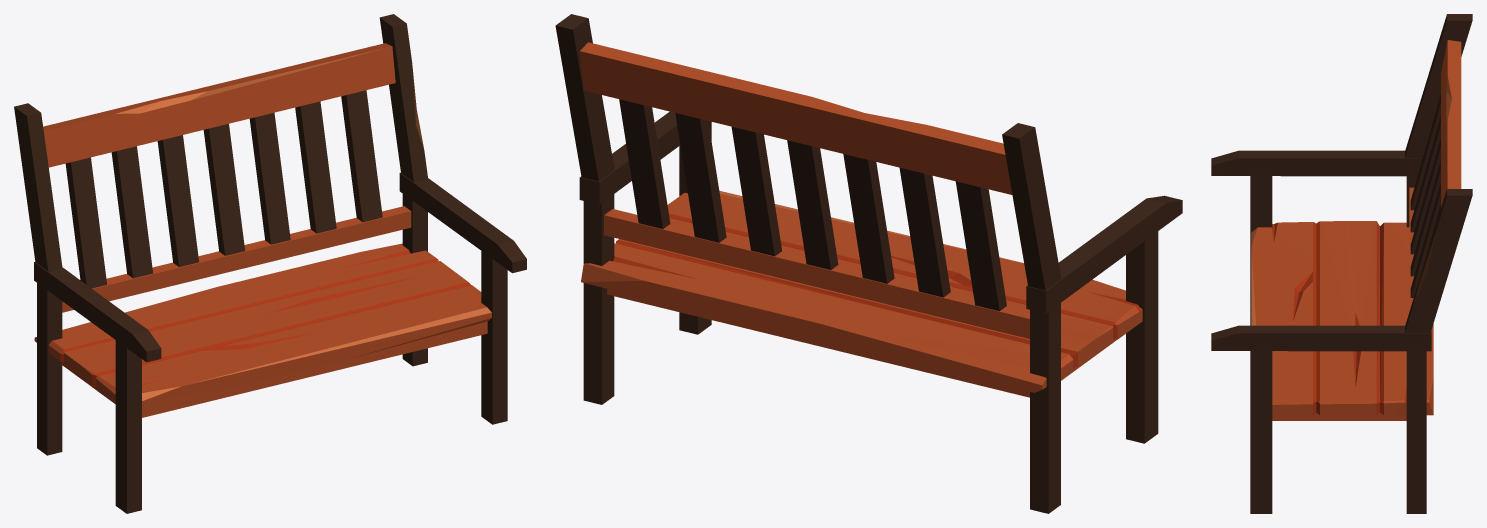
File: Bench.fbx
3 renders of one model, left to right at view 1: azimuth 30°, elevation 25°; view 2: azimuth 150°, elevation 25°; view 3: azimuth 270°, elevation 25°, orthographic. The views are drawn at different scales.
Visible parts, largest first — view 1: Bench; view 2: Bench; view 3: Bench.
Boxes of the visible parts, x1,y1,x2,y2 form: Bench: (14, 14, 526, 513); Bench: (555, 14, 1182, 513); Bench: (1211, 14, 1472, 513).
Size of the model in its own units: 47.1 by 38.22 by 28.44.
